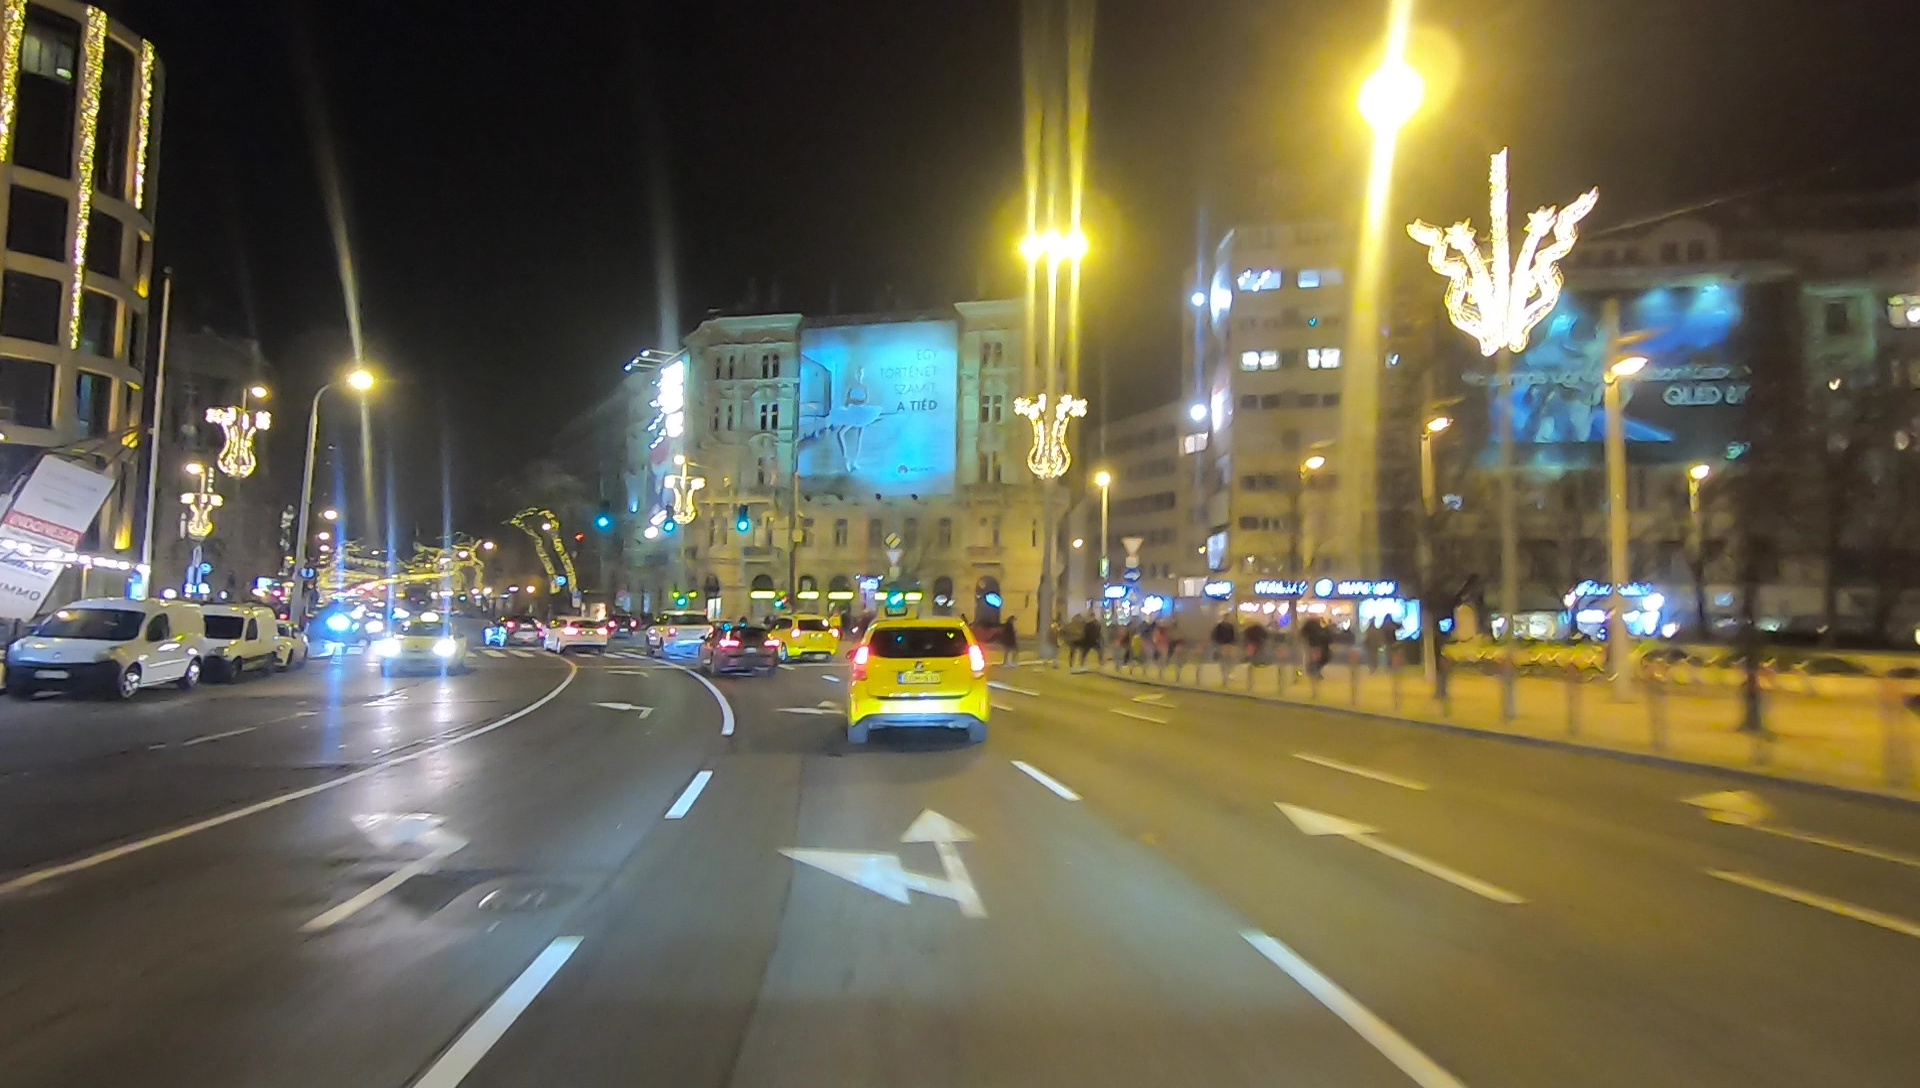person: (1210, 610, 1232, 669), (1064, 613, 1088, 663), (1243, 613, 1265, 669), (1084, 611, 1102, 661), (999, 613, 1015, 667)
